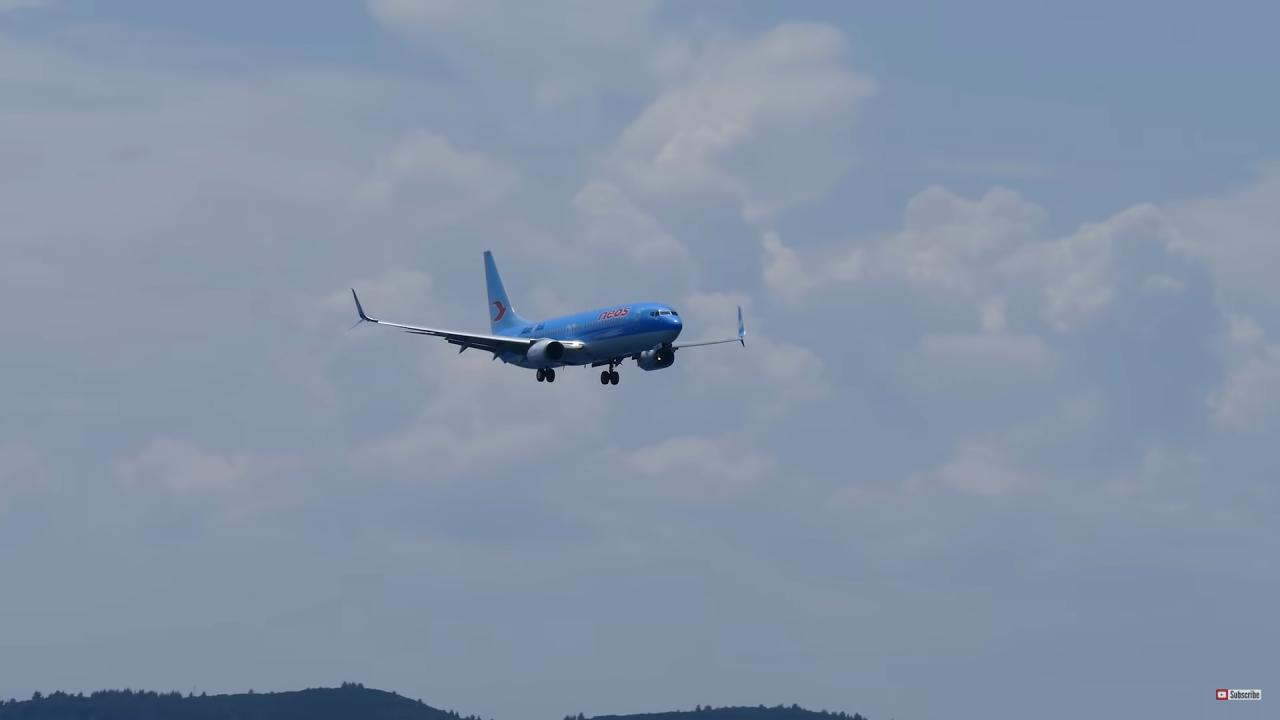Airplane: (344, 245, 755, 390)
